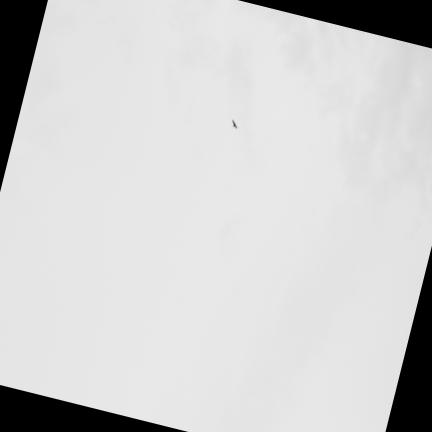Shahed: (231, 119, 236, 128)
